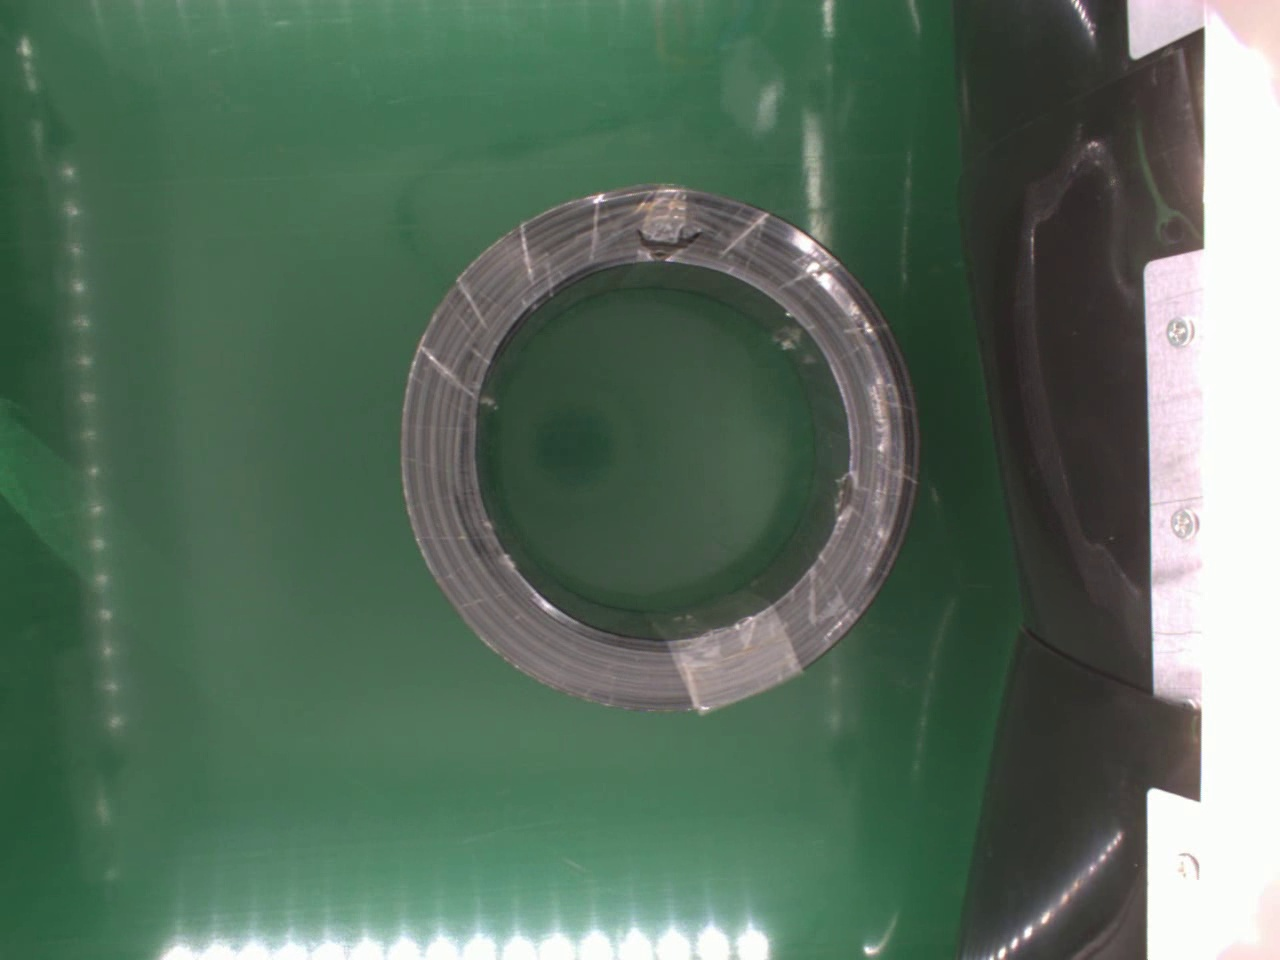black: (388, 179, 930, 719)
